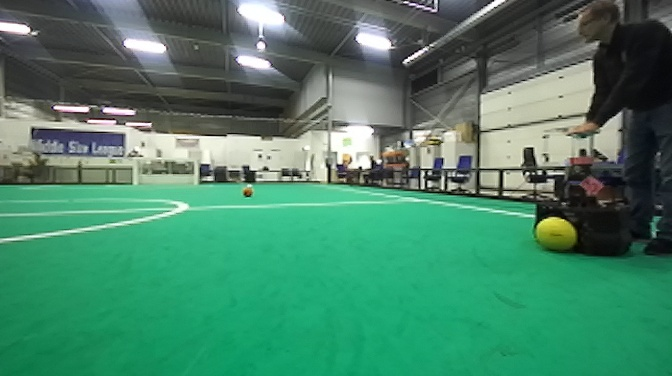goal: (132, 157, 199, 187), (533, 213, 577, 255), (242, 184, 254, 199)
goalpost: (131, 158, 139, 187), (194, 159, 199, 187)
human: (559, 1, 672, 260)
robot: (530, 130, 632, 260)
